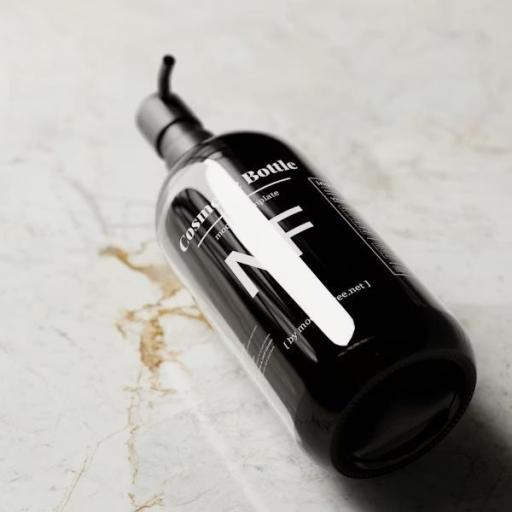bottle: (118, 41, 490, 475)
